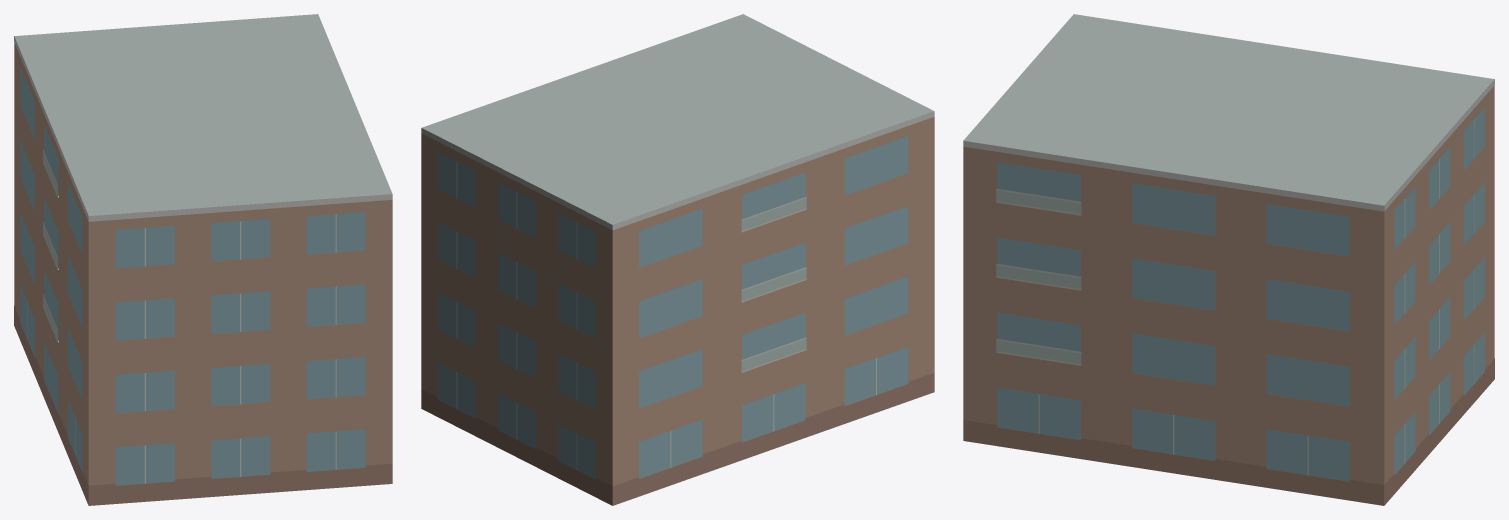
Rendered from survey-upis-32762534.glb.
3 renders of one model, left to right at view 1: azimuth 30°, elevation 25°; view 2: azimuth 150°, elevation 25°; view 3: azimuth 270°, elevation 25°, orthographic. The views are drawn at different scales.
Visible parts, largest first — view 1: survey-upis-32762534.tmp; view 2: survey-upis-32762534.tmp; view 3: survey-upis-32762534.tmp.
Boxes of the visible parts, x1,y1,x2,y2 form: survey-upis-32762534.tmp: (14,14,392,505); survey-upis-32762534.tmp: (421,14,934,505); survey-upis-32762534.tmp: (963,14,1494,505).
Bounding box in the file's own units: 17.14 × 12.5 × 20.07.
